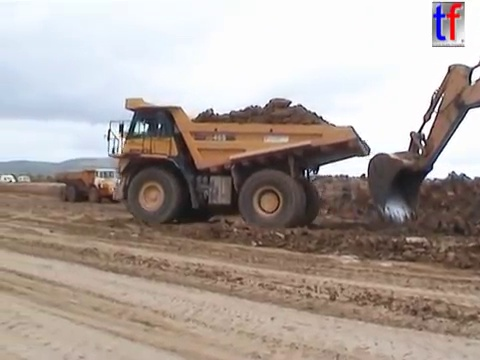excavator: (365, 57, 479, 228)
truck: (103, 96, 372, 234), (55, 167, 125, 204)
